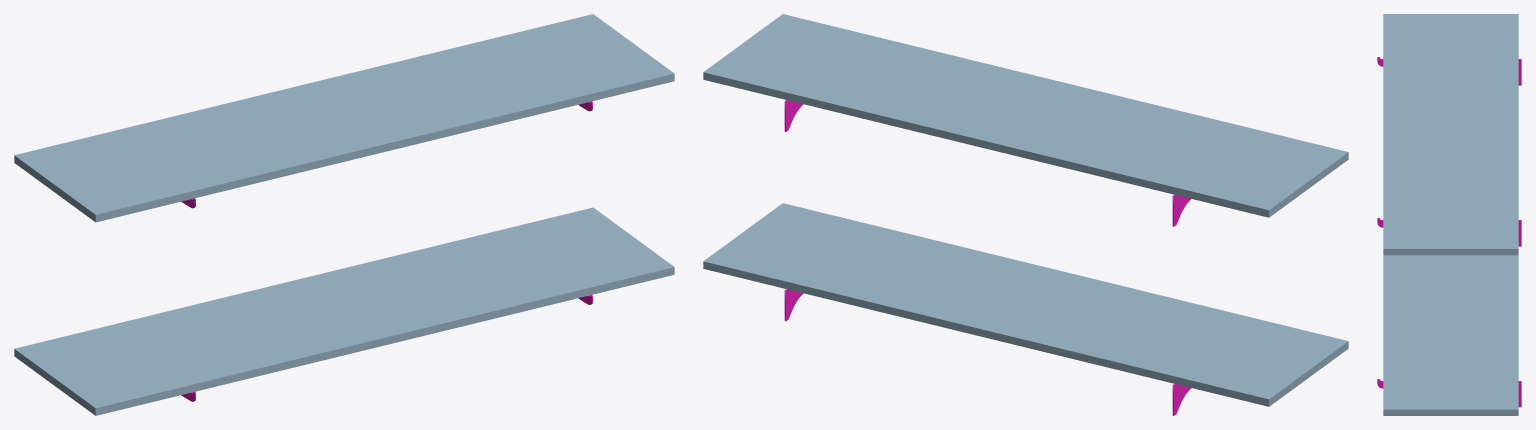
The model's file is shelving.glb.
3 views of the same model, side by side, from view 1: azimuth 30°, elevation 25°; view 2: azimuth 150°, elevation 25°; view 3: azimuth 270°, elevation 25° (orthographic). The views are drawn at different scales.
Visible parts, largest first — view 1: shelving; view 2: shelving; view 3: shelving.
Boxes of the visible parts, x1,y1,x2,y2 form: shelving: (14,14,674,415); shelving: (703,14,1348,415); shelving: (1377,14,1521,415).
Size of the model in its own units: 119 by 45.64 by 30.89.
